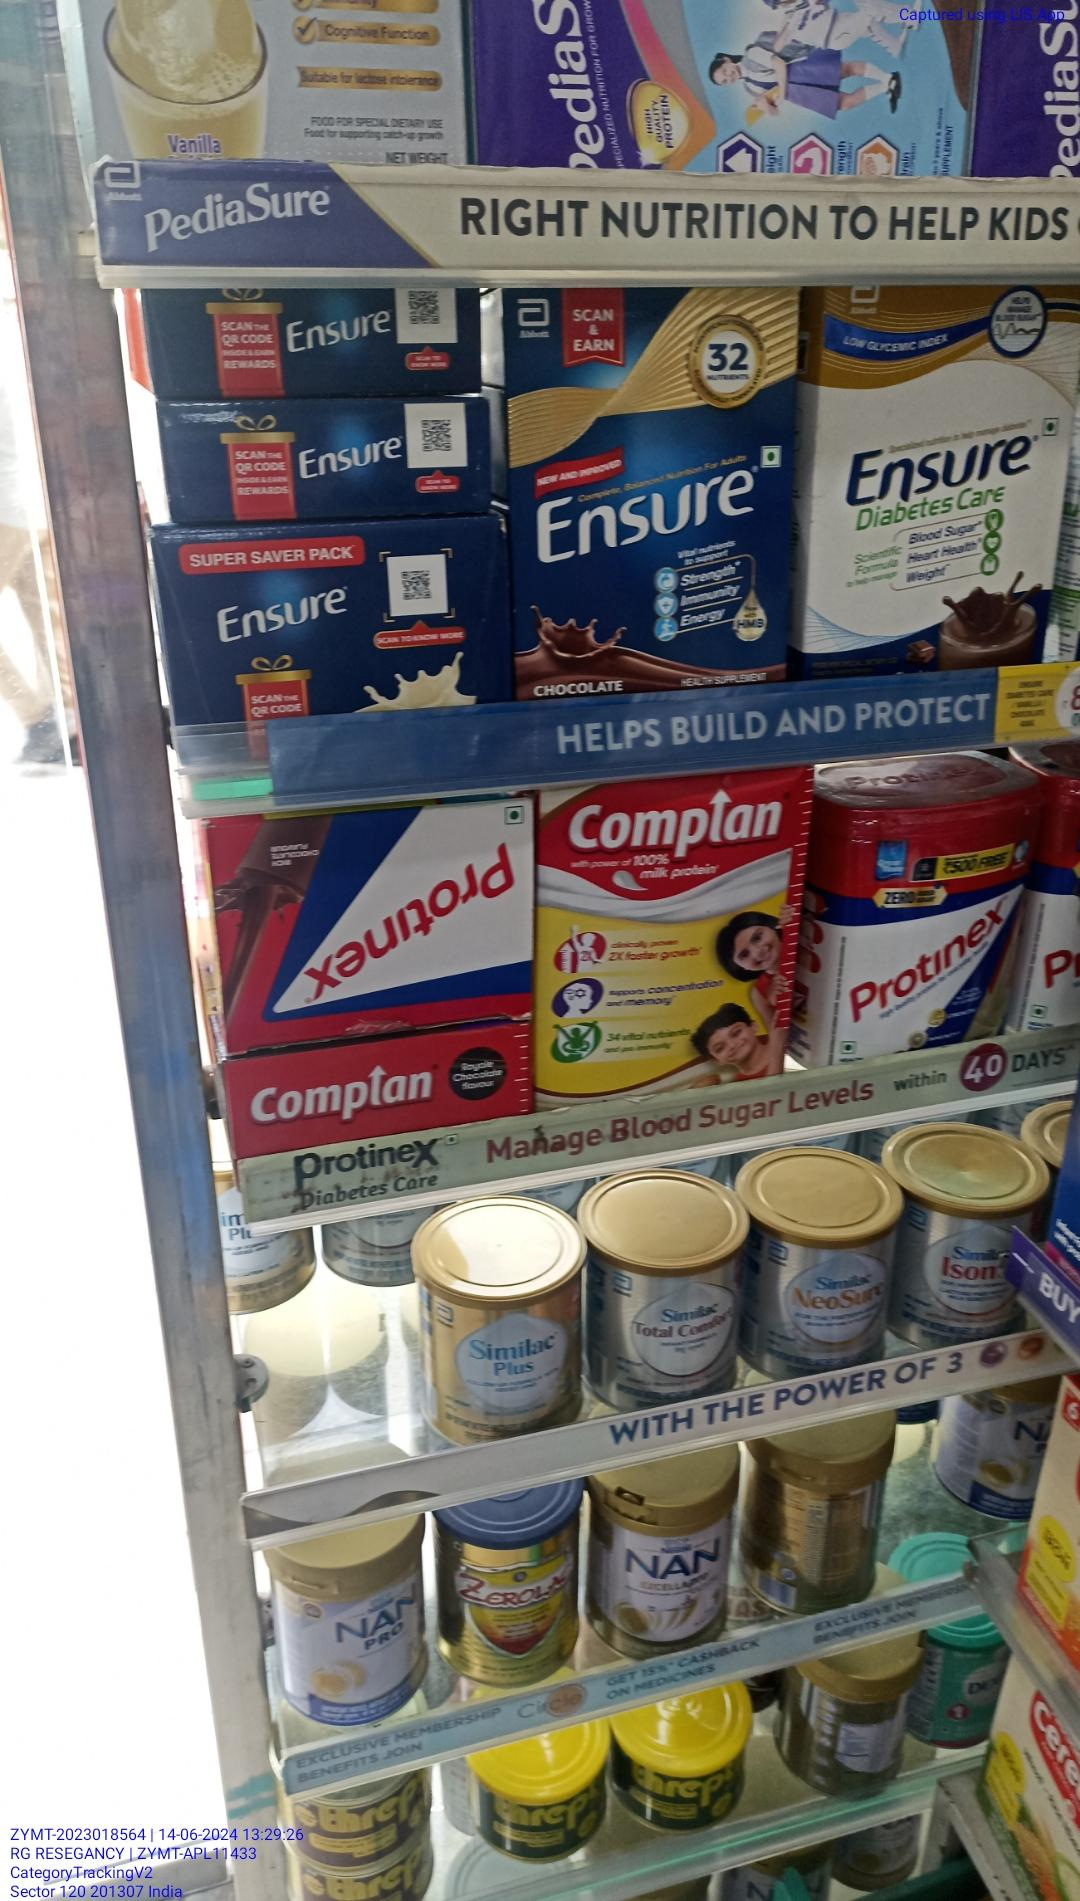COMPLAN_KESAR_BADAM_500_GMS_PACK: (539, 777, 808, 1080)
PROTINEX_CHOCOLATE_400_G_JAR: (815, 790, 1017, 1050)
